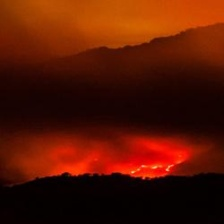fire: (125, 153, 182, 188)
